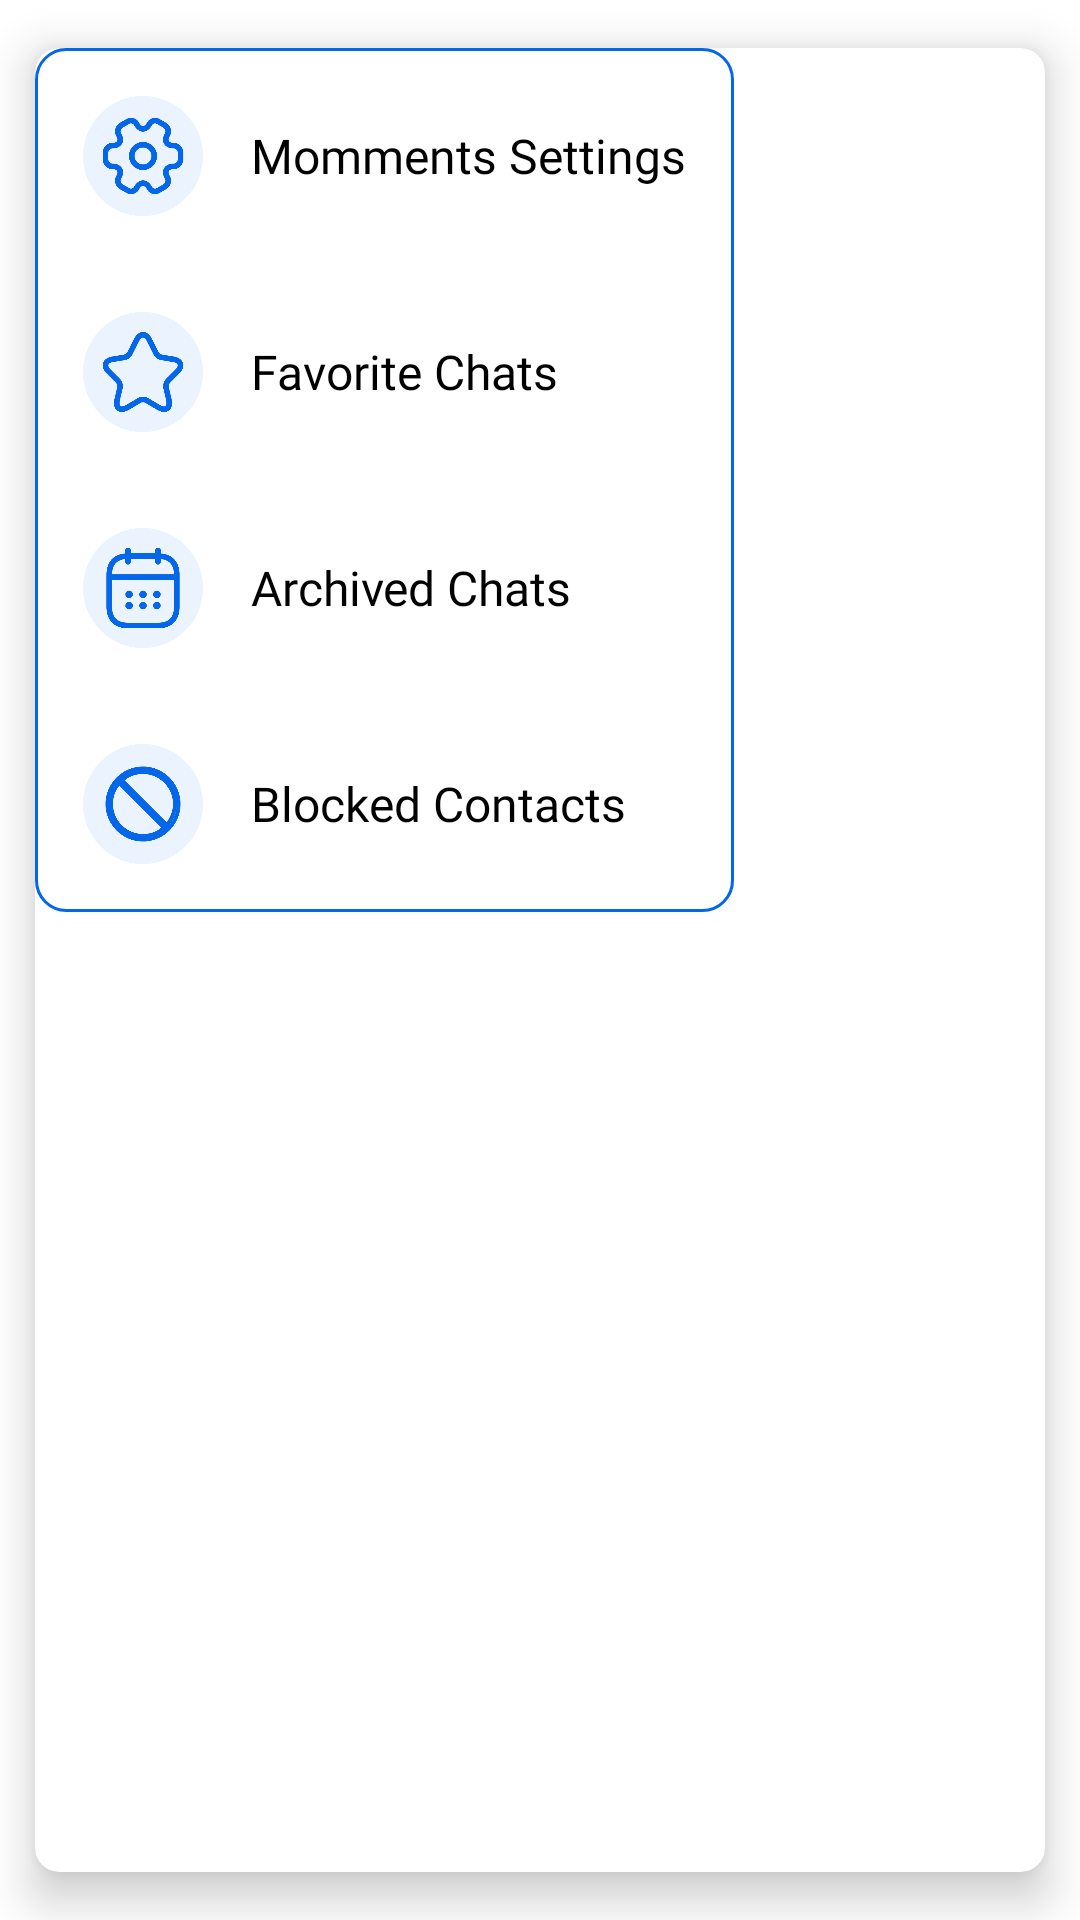

Point at icon controls on the screen. Image size 1080w x 1920h, points as [x,y].
calendar: [143,588]
favorites: [143,372]
moments settings: [143,156]
